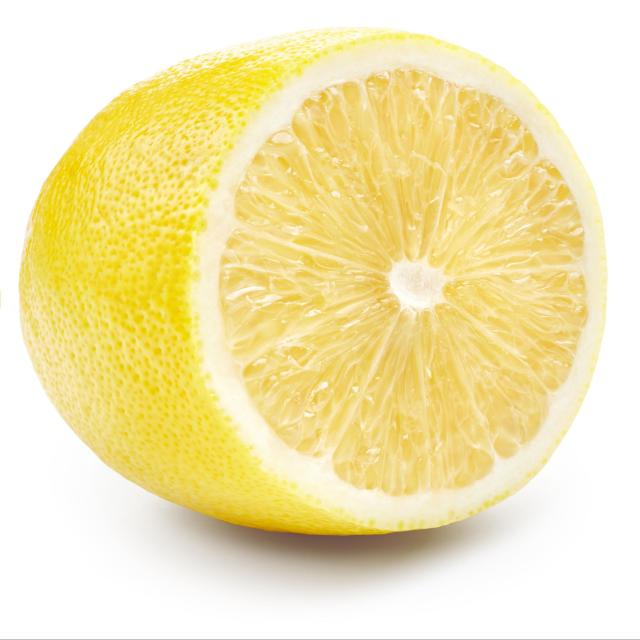lemon: (10, 17, 624, 554)
